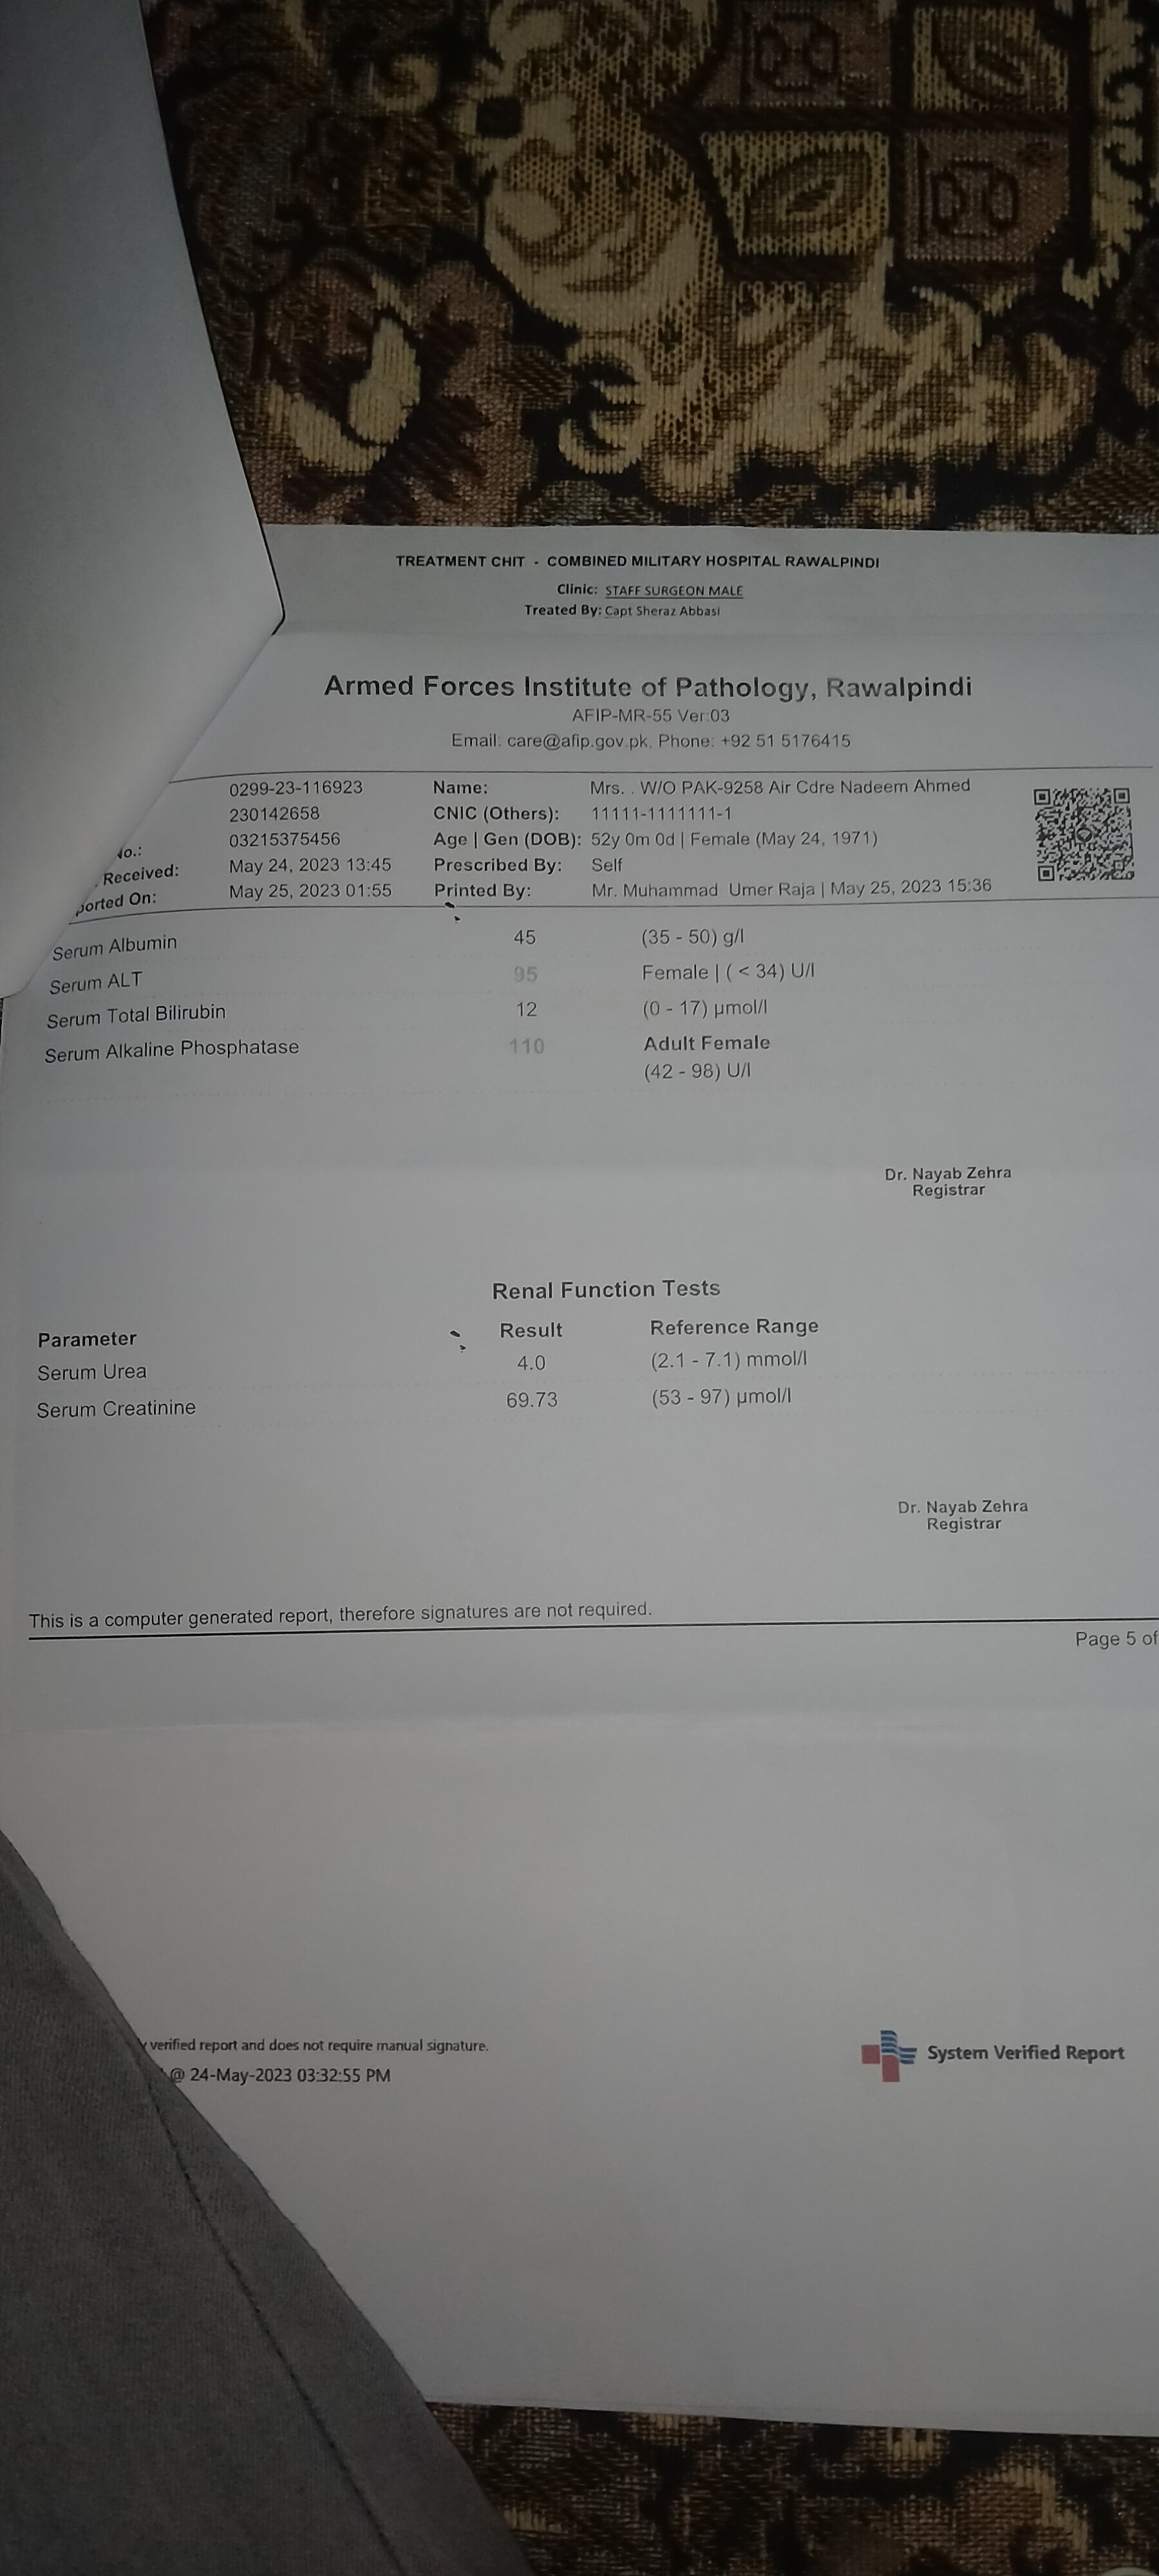report: (16, 915, 1149, 1475)
